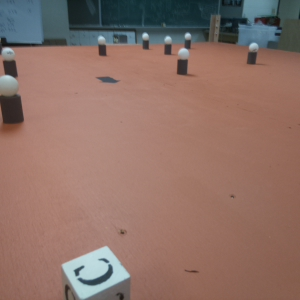obstacle: (1, 75, 23, 122), (2, 49, 14, 78), (244, 42, 259, 64), (177, 49, 189, 75), (97, 36, 107, 58), (163, 36, 173, 55), (184, 32, 191, 49), (143, 33, 149, 49)
